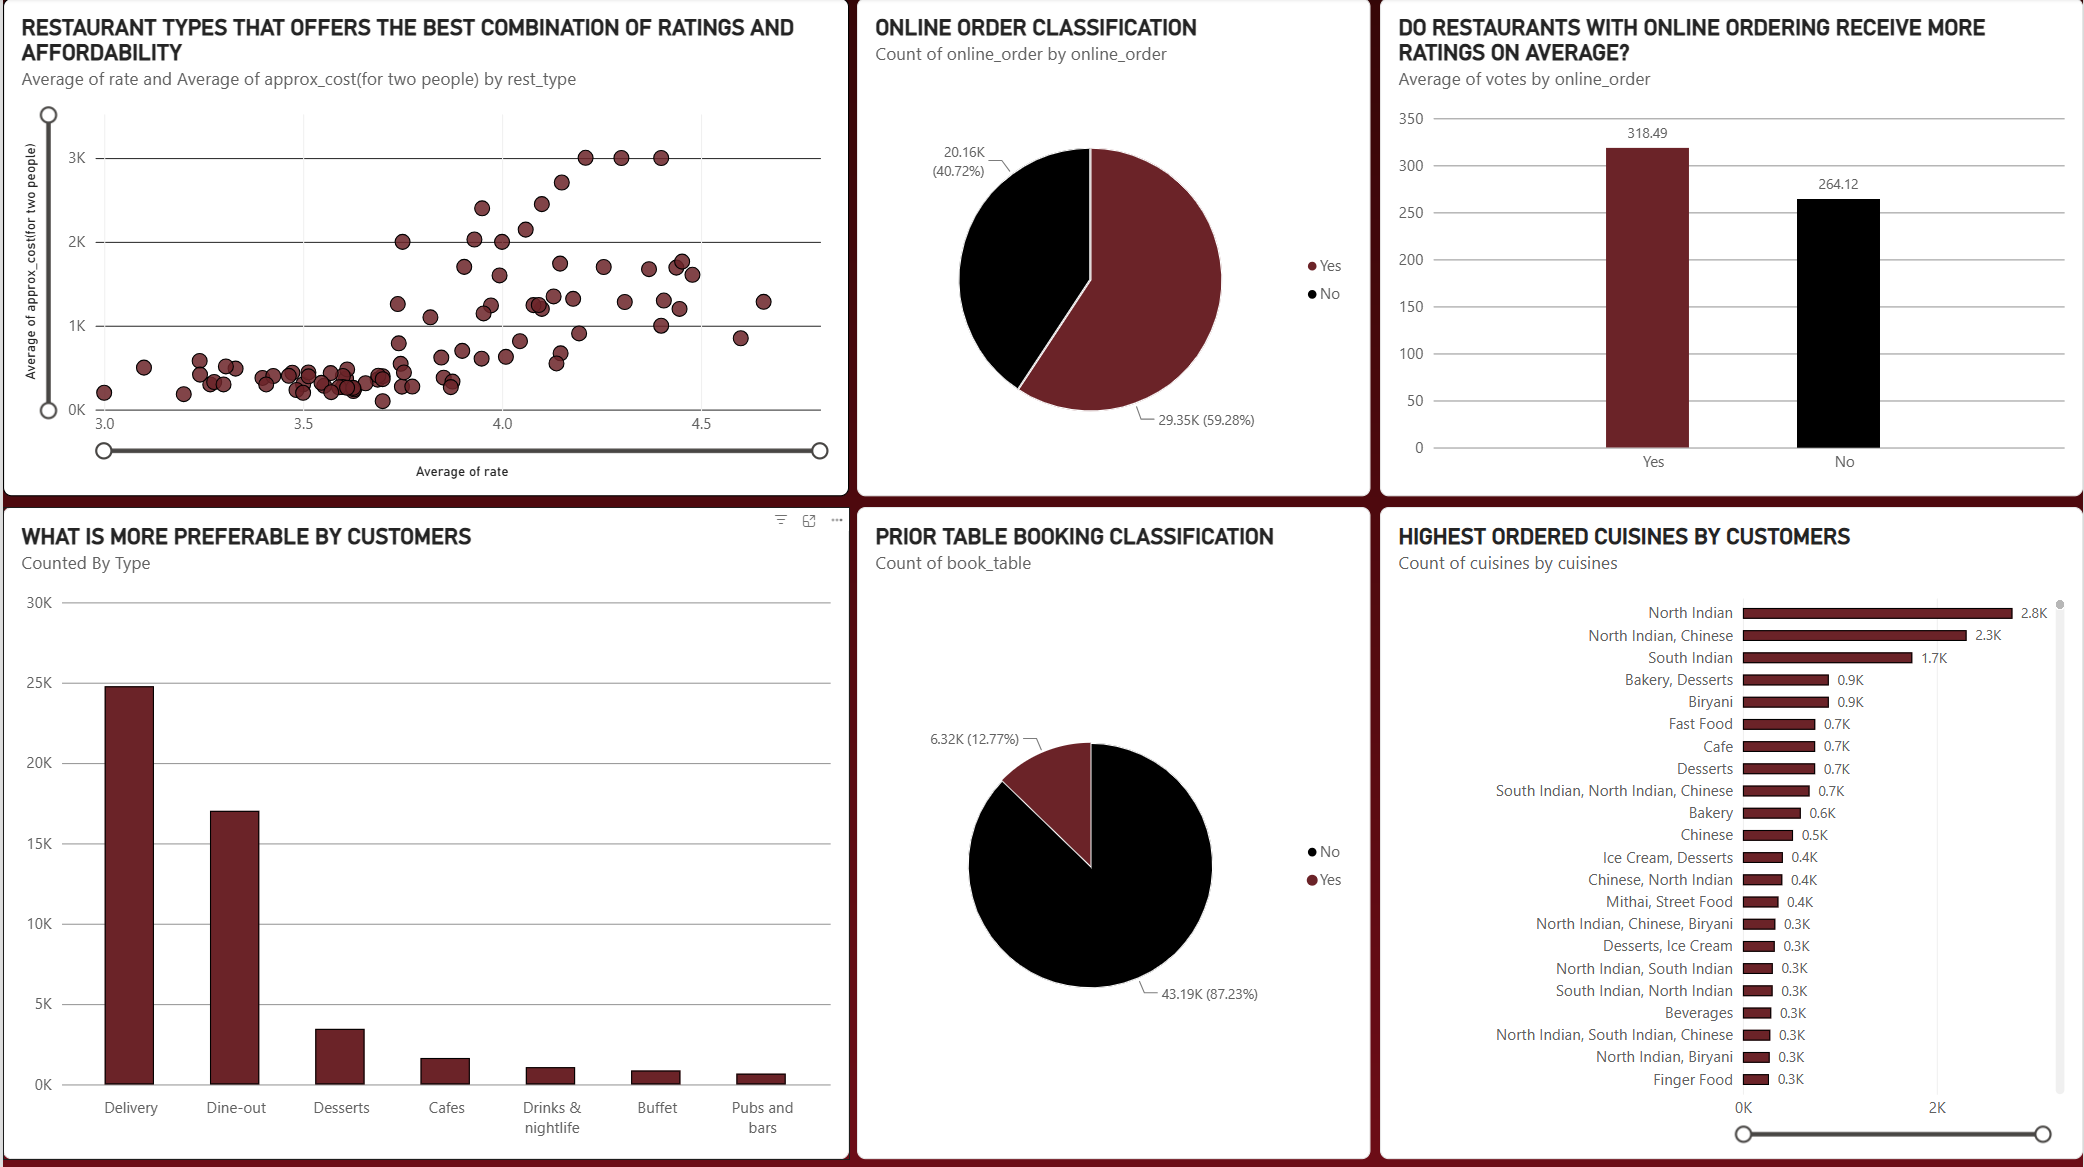

The page's visual inventory and layout, read from the dashboard file:
{"tool":"powerbi","page":{"name":"Page 3","canvas":[1920,1080],"ordinal":2},"visuals":[{"type":"image","box":[0,0,1920,1079.6],"z":0},{"type":"scatterChart","title":"RESTAURANT TYPES THAT OFFERS THE BEST COMBINATION OF RATINGS AND AFFORDABILITY","fields":{"X":["Avg(Zomato Cleaned Dataset.rate)"],"Y":["Avg(Zomato Cleaned Dataset.approx_cost(for two people))"],"Category":["Zomato Cleaned Dataset.rest_type"]},"box":[0,0,781.5,459.9],"z":1000},{"type":"pieChart","title":"ONLINE ORDER CLASSIFICATION","fields":{"Category":["Zomato Cleaned Dataset.online_order"],"Y":["CountNonNull(Zomato Cleaned Dataset.online_order)"]},"box":[788,0,473.9,459.9],"z":2000},{"type":"clusteredColumnChart","title":"DO RESTAURANTS WITH ONLINE ORDERING RECEIVE MORE RATINGS ON AVERAGE?","fields":{"Y":["Avg(Zomato Cleaned Dataset.votes)"],"Category":["Zomato Cleaned Dataset.online_order"]},"box":[1271.3,0,648.7,459.9],"z":3000},{"type":"pieChart","title":"PRIOR TABLE BOOKING CLASSIFICATION","fields":{"Category":["Zomato Cleaned Dataset.book_table"],"Y":["CountNonNull(Zomato Cleaned Dataset.book_table)"]},"box":[788,470.2,473.9,602],"z":4000},{"type":"clusteredColumnChart","title":"WHAT IS MORE PREFERABLE BY CUSTOMERS","fields":{"Category":["Zomato Cleaned Dataset.listed_in(type)"],"Y":["CountNonNull(Zomato Cleaned Dataset.listed_in(type))"]},"box":[0,470.2,781.5,602],"z":5000},{"type":"clusteredBarChart","title":"HIGHEST ORDERED CUISINES BY CUSTOMERS","fields":{"Category":["Zomato Cleaned Dataset.cuisines"],"Y":["CountNonNull(Zomato Cleaned Dataset.cuisines)"]},"box":[1271.3,470.2,648.7,602],"z":6000}]}

Visuals, with their boxes in screenshot pixels (x1, y1, x2, y2), scaled from the page's 1920x1080 canvas onto the 2084x1167 screenshot:
image: locate(0, 0, 2083, 1166)
"RESTAURANT TYPES THAT OFFERS THE BEST COMBINATION OF RATINGS AND AFFORDABILITY" scatterChart: locate(0, 0, 848, 497)
"ONLINE ORDER CLASSIFICATION" pieChart: locate(855, 0, 1370, 497)
"DO RESTAURANTS WITH ONLINE ORDERING RECEIVE MORE RATINGS ON AVERAGE?" clusteredColumnChart: locate(1380, 0, 2083, 497)
"PRIOR TABLE BOOKING CLASSIFICATION" pieChart: locate(855, 508, 1370, 1159)
"WHAT IS MORE PREFERABLE BY CUSTOMERS" clusteredColumnChart: locate(0, 508, 848, 1159)
"HIGHEST ORDERED CUISINES BY CUSTOMERS" clusteredBarChart: locate(1380, 508, 2083, 1159)
